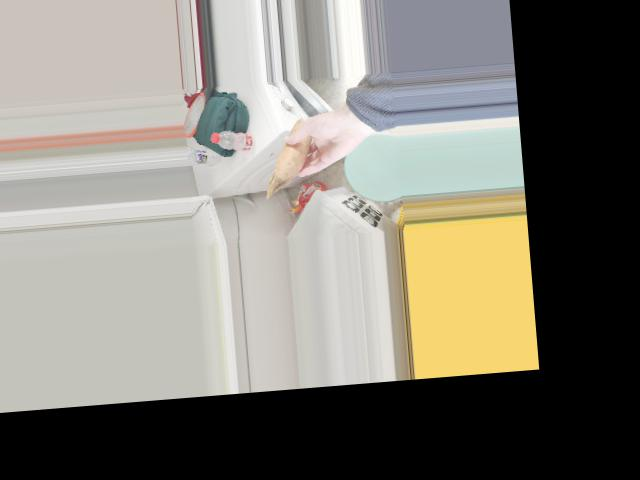sweet_potato: (273, 126, 317, 176)
